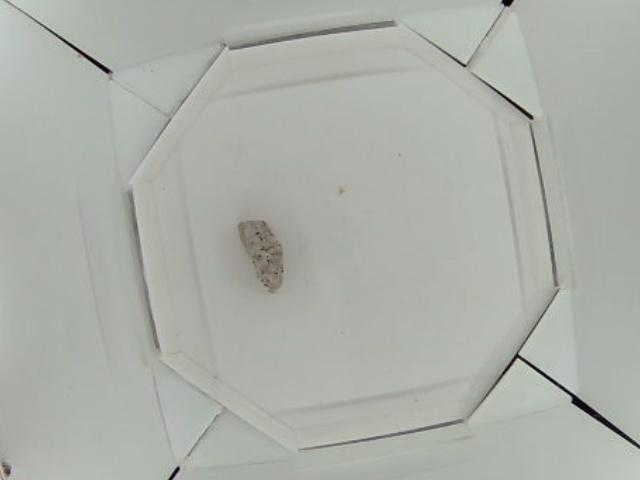China: (239, 222, 284, 291)
